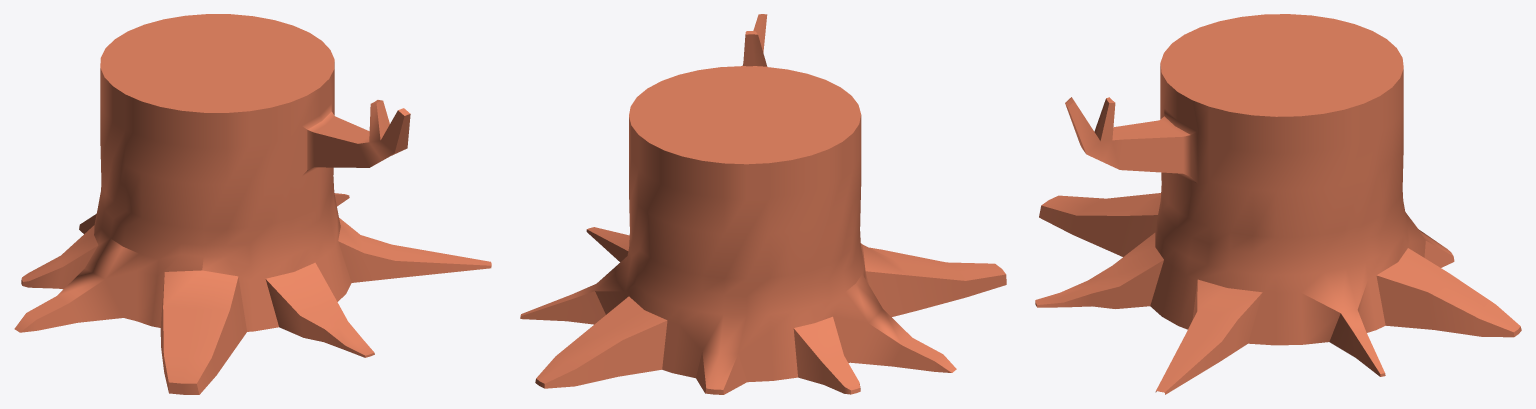
The model's file is TroncoVer_low.fbx.
The picture shows the model from 3 angles, left to right: view 1: azimuth 30°, elevation 25°; view 2: azimuth 150°, elevation 25°; view 3: azimuth 270°, elevation 25°; orthographic projection. The views are drawn at different scales.
Parts seen in each view (by area): view 1: TroncoVertical.001; view 2: TroncoVertical.001; view 3: TroncoVertical.001.
Boxes of the visible parts, left/top/right/bottom form: TroncoVertical.001: left=14, top=14, right=491, bottom=394; TroncoVertical.001: left=520, top=14, right=1006, bottom=394; TroncoVertical.001: left=1035, top=14, right=1521, bottom=394.
Size of the model in its own units: 416 by 209 by 399.
